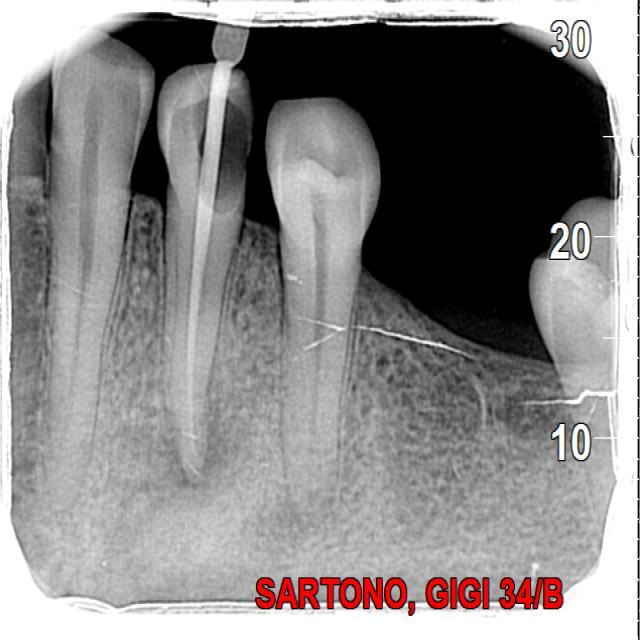individual-tooth-8tto: (45, 30, 159, 521), (260, 93, 381, 511), (159, 59, 255, 469)
